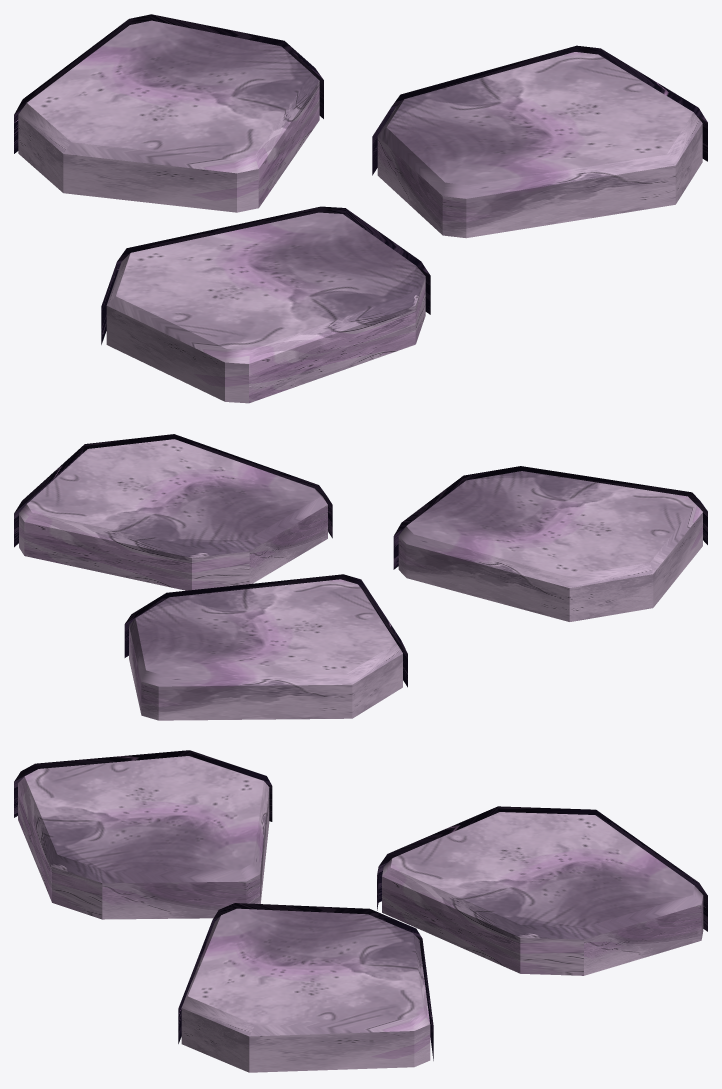
The model's file is Path_03_Art.glb.
The picture shows the model from 3 angles, top to bottom: view 1: azimuth 30°, elevation 25°; view 2: azimuth 150°, elevation 25°; view 3: azimuth 270°, elevation 25°; orthographic projection. The views are drawn at different scales.
Parts seen in each view (by area): view 1: Path_03_Art; view 2: Path_03_Art; view 3: Path_03_Art.
Boxes of the visible parts, x1,y1,x2,y2 form: Path_03_Art: [14, 14, 707, 403]; Path_03_Art: [14, 434, 707, 720]; Path_03_Art: [14, 750, 707, 1072].
Bounding box in the file's own units: 1.88 × 0.1729 × 1.93.
Materials: 2 (2 with a texture image).
